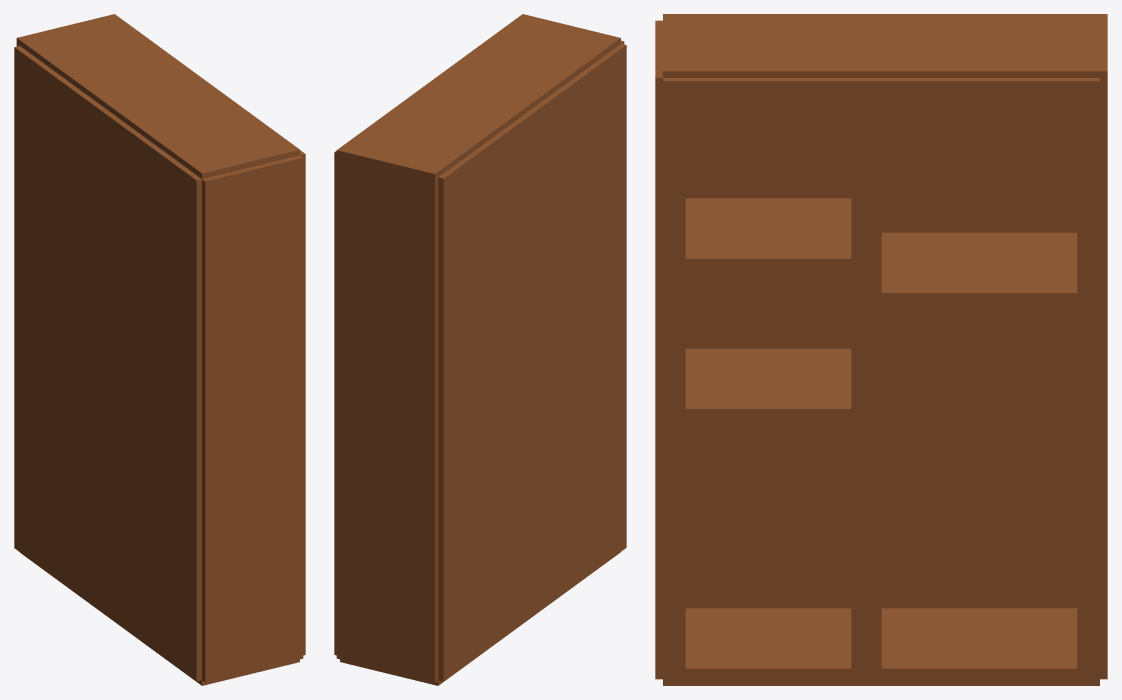
The model's file is SchoolPack-58-library shelf.obj.
3 renders of one model, left to right at view 1: azimuth 30°, elevation 25°; view 2: azimuth 150°, elevation 25°; view 3: azimuth 270°, elevation 25°, orthographic. The views are drawn at different scales.
Parts seen in each view (by area): view 1: library shelf; view 2: library shelf; view 3: library shelf.
Boxes of the visible parts, bbox=[...] form: library shelf: bbox=[14, 14, 305, 685]; library shelf: bbox=[334, 14, 626, 685]; library shelf: bbox=[655, 14, 1107, 685].
Bounding box in the file's own units: 2 × 9 × 6.
Materials: 1 (1 with a texture image).
